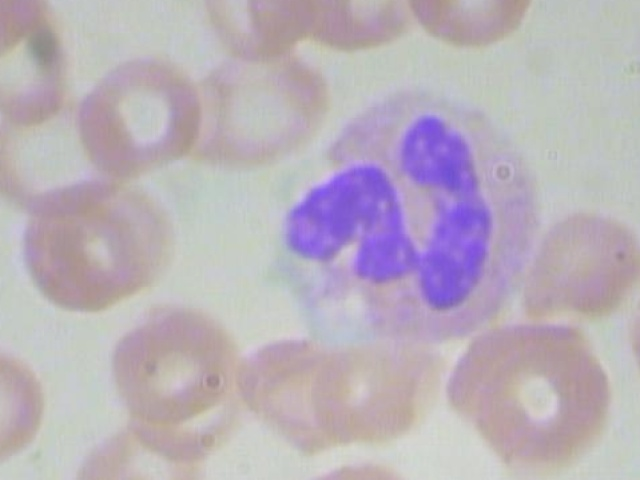RBC: (442, 330, 624, 471), (72, 50, 209, 186), (522, 209, 640, 328), (56, 414, 213, 480), (0, 337, 62, 473), (405, 0, 550, 51), (286, 445, 443, 480)
WBC: (266, 78, 550, 354)
